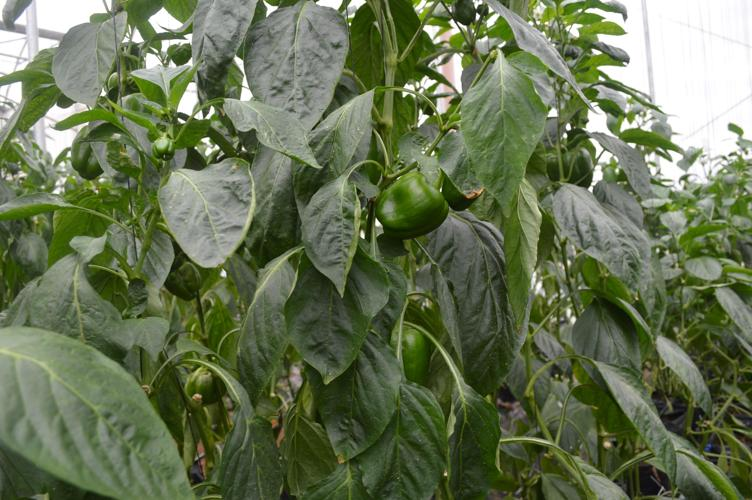BellPepper: (368, 174, 450, 252), (374, 317, 442, 387), (62, 127, 115, 195), (141, 129, 187, 176)
